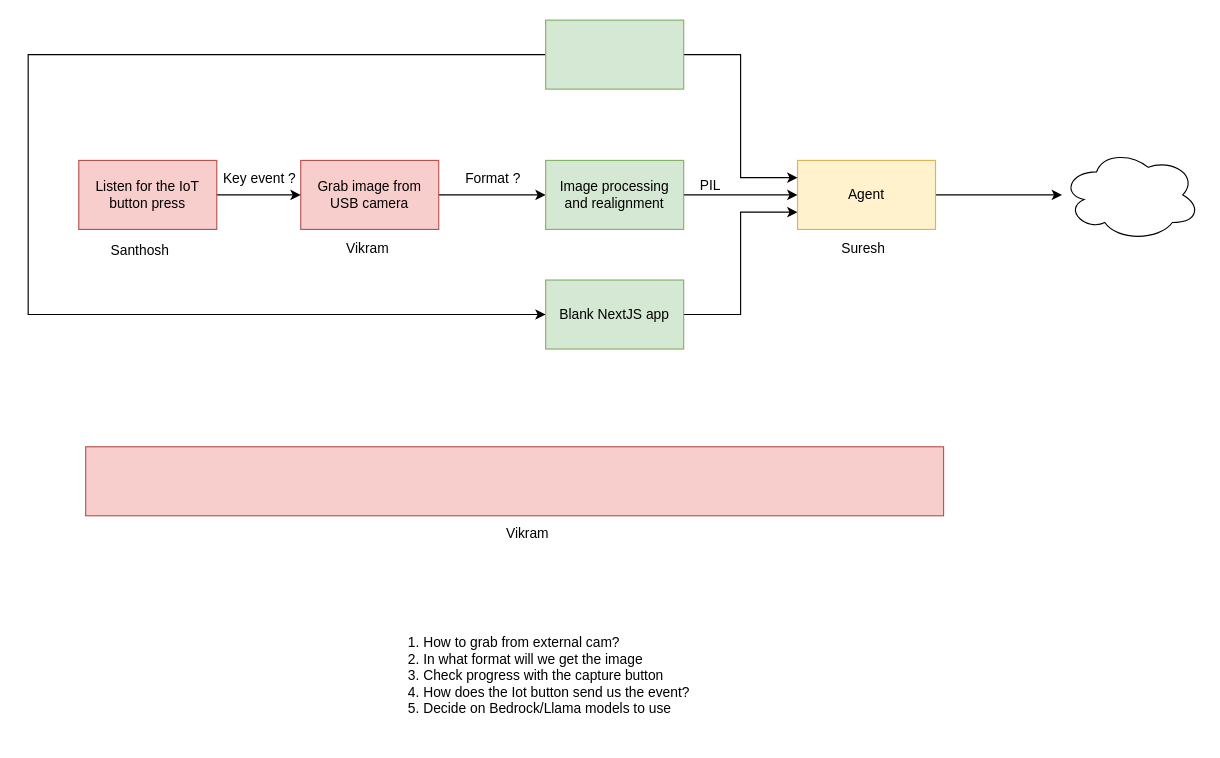
Some shapes in this 1220 by 758 pixel diagram are drawn without their labels. The box of each missing label's shape, as (x1, y1, x2, y2) in pixels:
Bedrock: (1061, 148, 1200, 241)
File read/write tool: (545, 19, 684, 89)
Main ever-running coordinator script: (85, 446, 944, 516)
